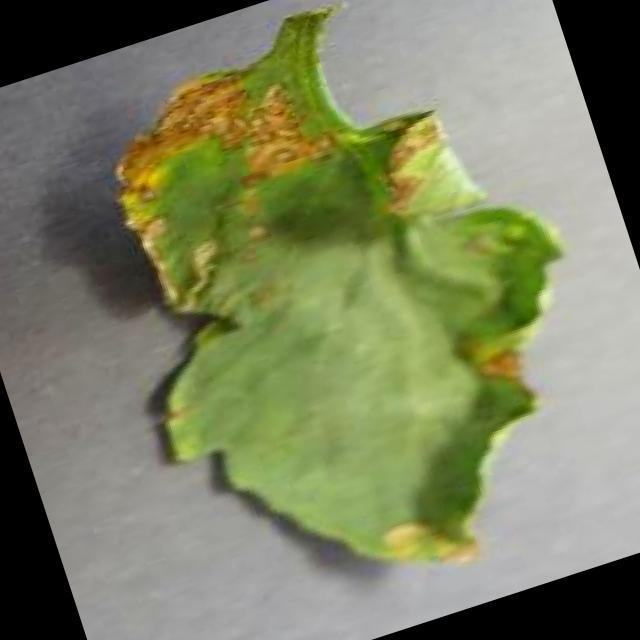Tomato bacterial spot leaf: (52, 0, 640, 640)
